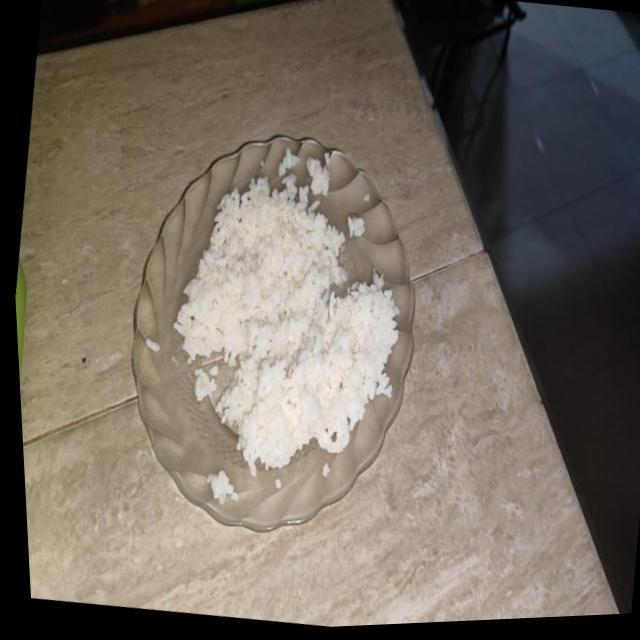nasi_putih: (174, 150, 399, 469)
